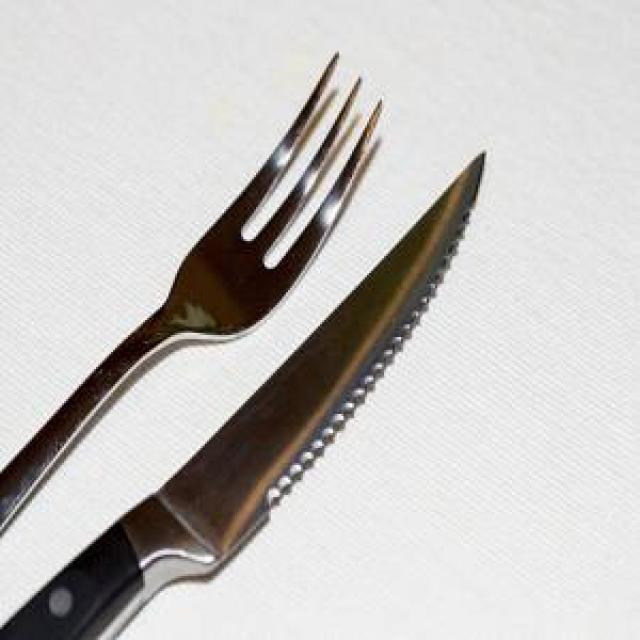knife: (0, 149, 486, 637)
